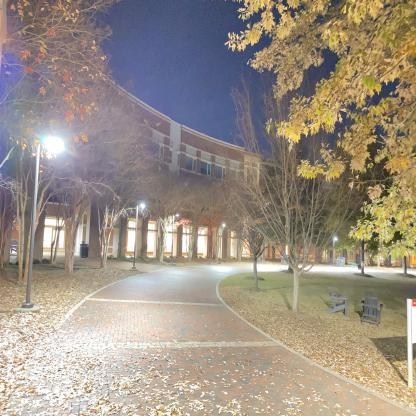eb2: (13, 61, 336, 274)
